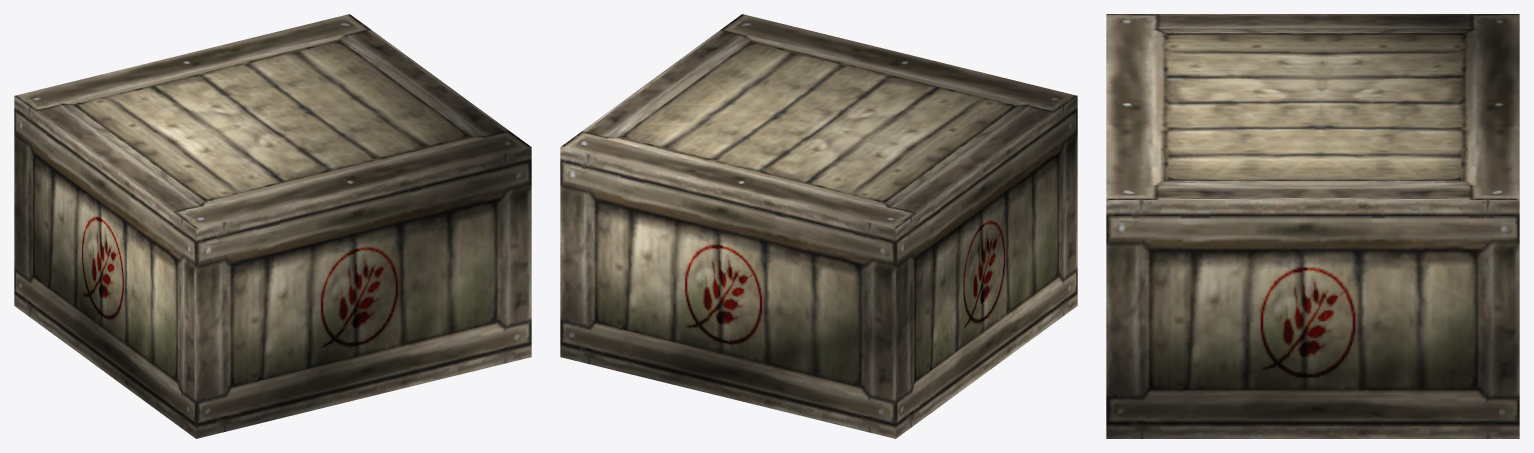
Rendered from Set_crate3.FBX.
3 views of the same model, side by side, from view 1: azimuth 30°, elevation 25°; view 2: azimuth 150°, elevation 25°; view 3: azimuth 270°, elevation 25° (orthographic). The views are drawn at different scales.
Visible parts, largest first — view 1: graincrate01_0; view 2: graincrate01_0; view 3: graincrate01_0.
Boxes of the visible parts, box(x1,y1,x2,y2) form: graincrate01_0: box(14, 14, 531, 438); graincrate01_0: box(560, 14, 1077, 438); graincrate01_0: box(1106, 14, 1519, 438).
Size of the model in its own units: 1.32 by 0.7924 by 1.24.
1 material, 1 textured.
